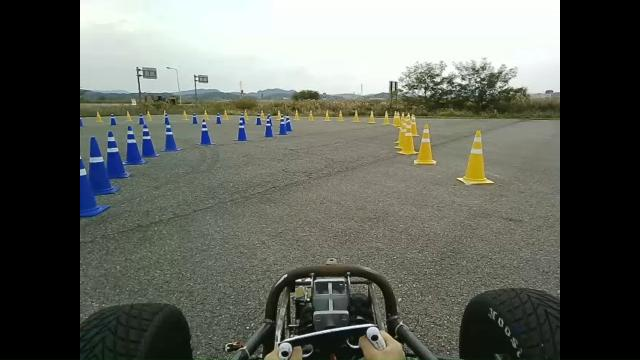blue cone: (87, 136, 119, 195), (105, 130, 131, 178), (122, 125, 146, 165), (159, 115, 182, 152), (141, 124, 160, 157), (198, 119, 212, 145), (262, 116, 276, 138), (233, 124, 250, 142), (278, 119, 287, 135)
yellow cone: (456, 129, 494, 185), (413, 124, 437, 164), (398, 124, 418, 154), (394, 128, 406, 150), (409, 114, 418, 135), (392, 110, 401, 126)
